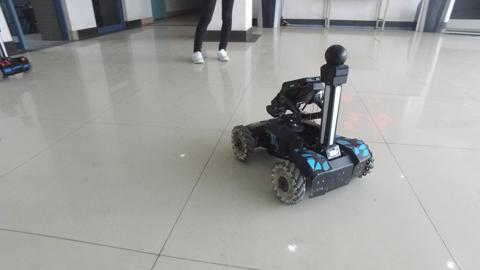chariot: (230, 42, 375, 206)
